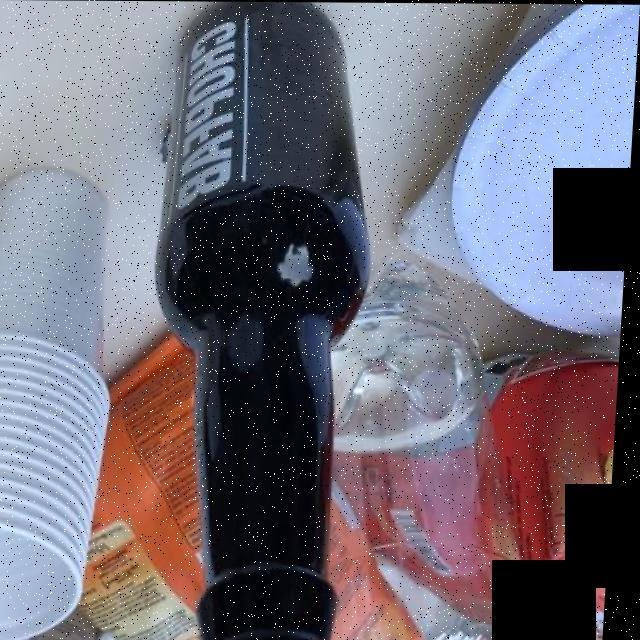beer: (170, 13, 374, 623)
